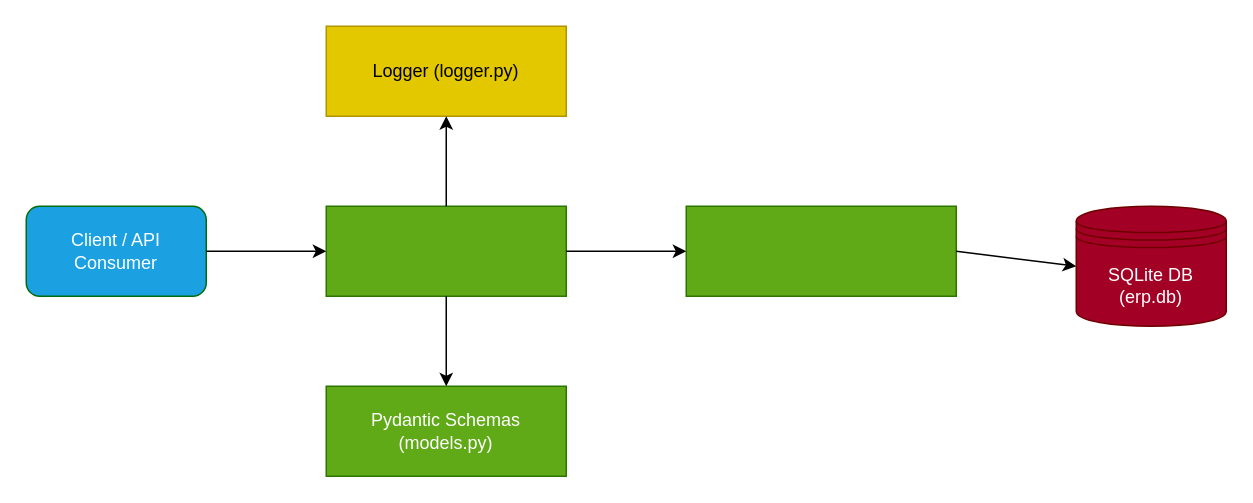
Some shapes in this 1253 by 503 pixel diagram are drawn without their labels. The centre of each missing label's shape, as x and y in pixels:
"Database Handler (database.py)" goes at (x=820, y=250).
"FastAPI Router (main.py)" goes at (x=445, y=250).
